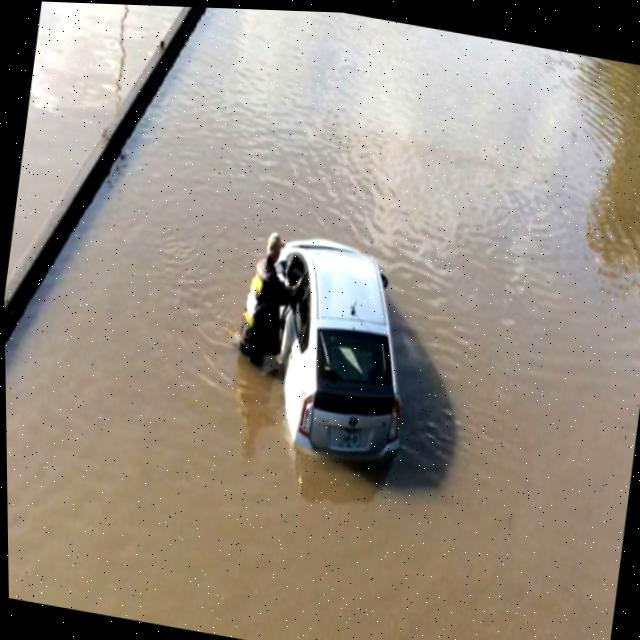civilian: (225, 216, 316, 385)
